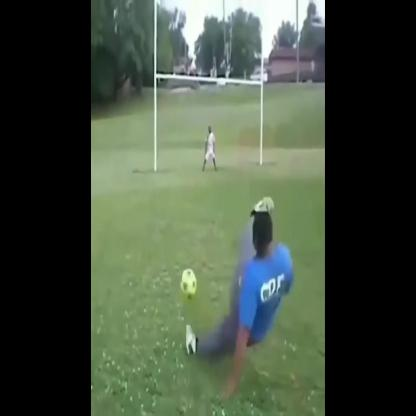Fall_Down: (184, 193, 295, 406)
